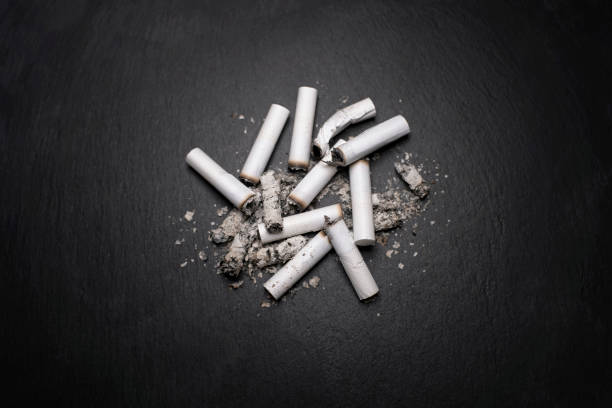cigarette: (183, 146, 263, 216), (262, 230, 334, 300), (325, 218, 380, 302), (286, 139, 349, 212), (237, 102, 291, 187), (330, 113, 412, 166), (312, 96, 377, 160), (257, 204, 345, 244), (287, 85, 319, 173), (349, 157, 376, 247)
